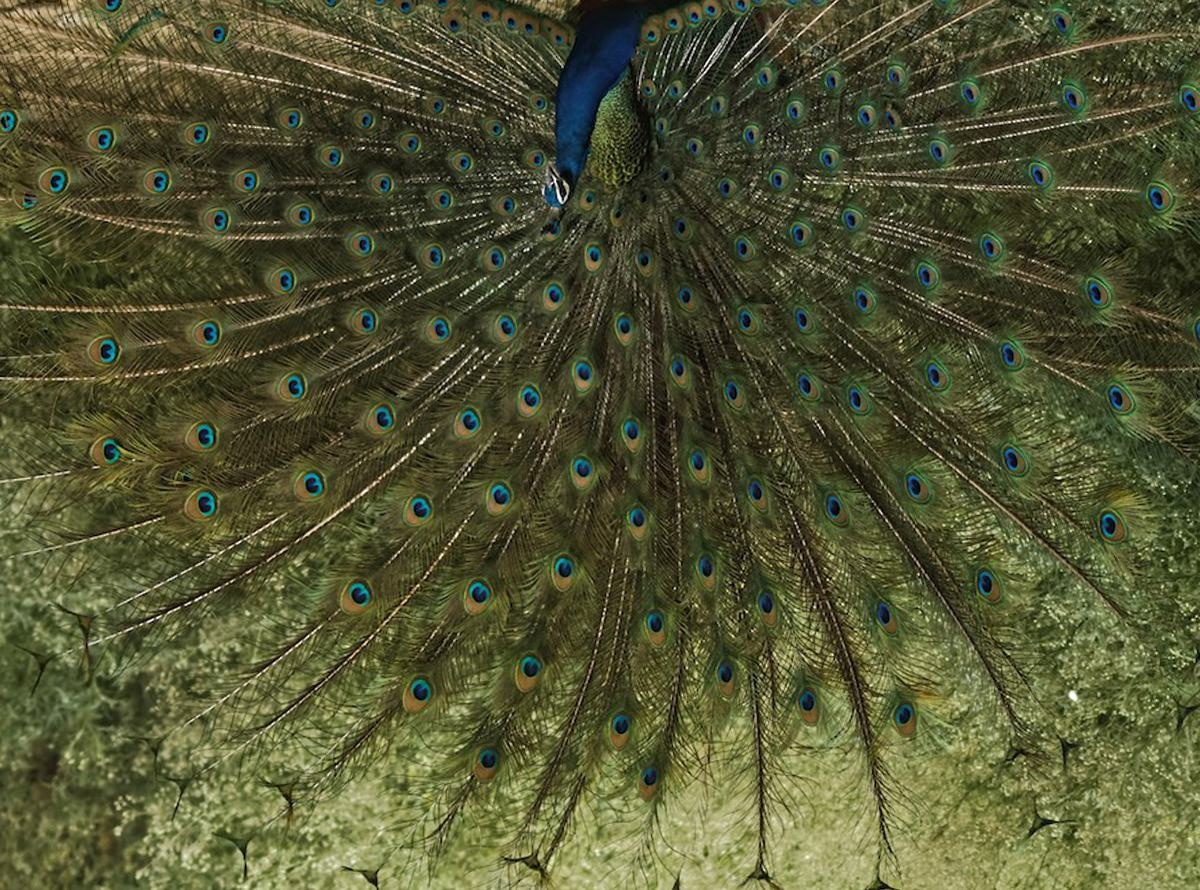peacock: (121, 1, 1113, 618)
